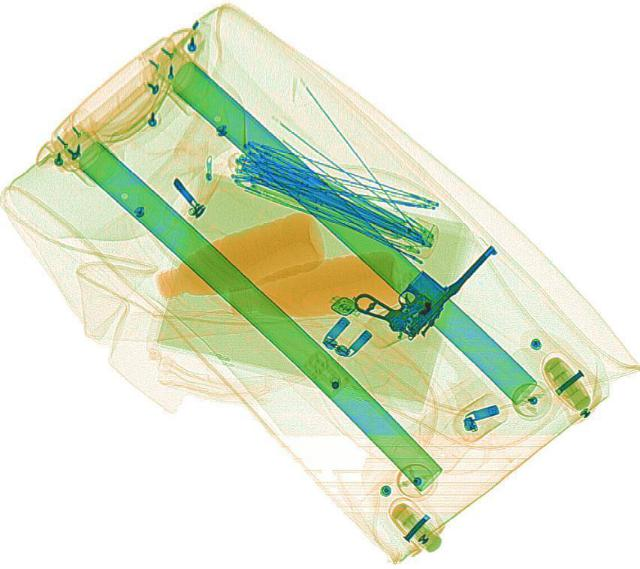Gun: (348, 209, 504, 344)
